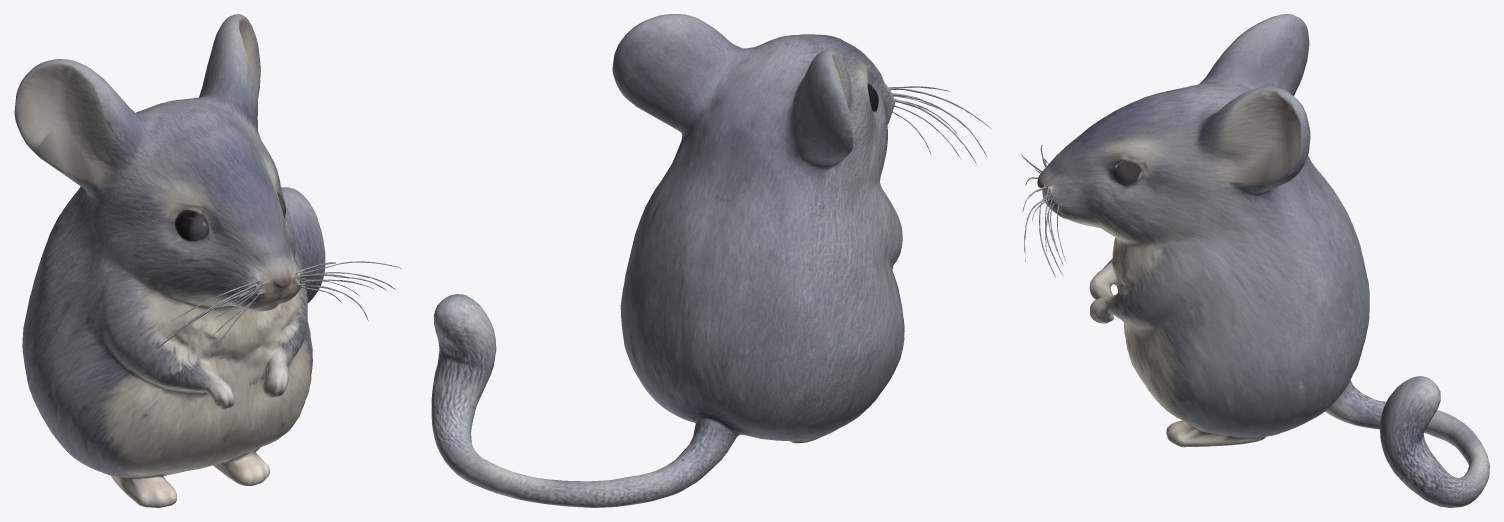
Rendered from chinchilla-gray.glb.
3 views of the same model, side by side, from view 1: azimuth 30°, elevation 25°; view 2: azimuth 150°, elevation 25°; view 3: azimuth 270°, elevation 25° (orthographic). The views are drawn at different scales.
Visible parts, largest first — view 1: Mesh_0; view 2: Mesh_0; view 3: Mesh_0.
Part boxes in pixels (x1=…): Mesh_0: x1=14, y1=14, x2=401, y2=507; Mesh_0: x1=431, y1=14, x2=990, y2=507; Mesh_0: x1=1021, y1=14, x2=1489, y2=507.
Size of the model in its own units: 1.54 by 1.66 by 1.9.
Materials: 1 (1 with a texture image).
